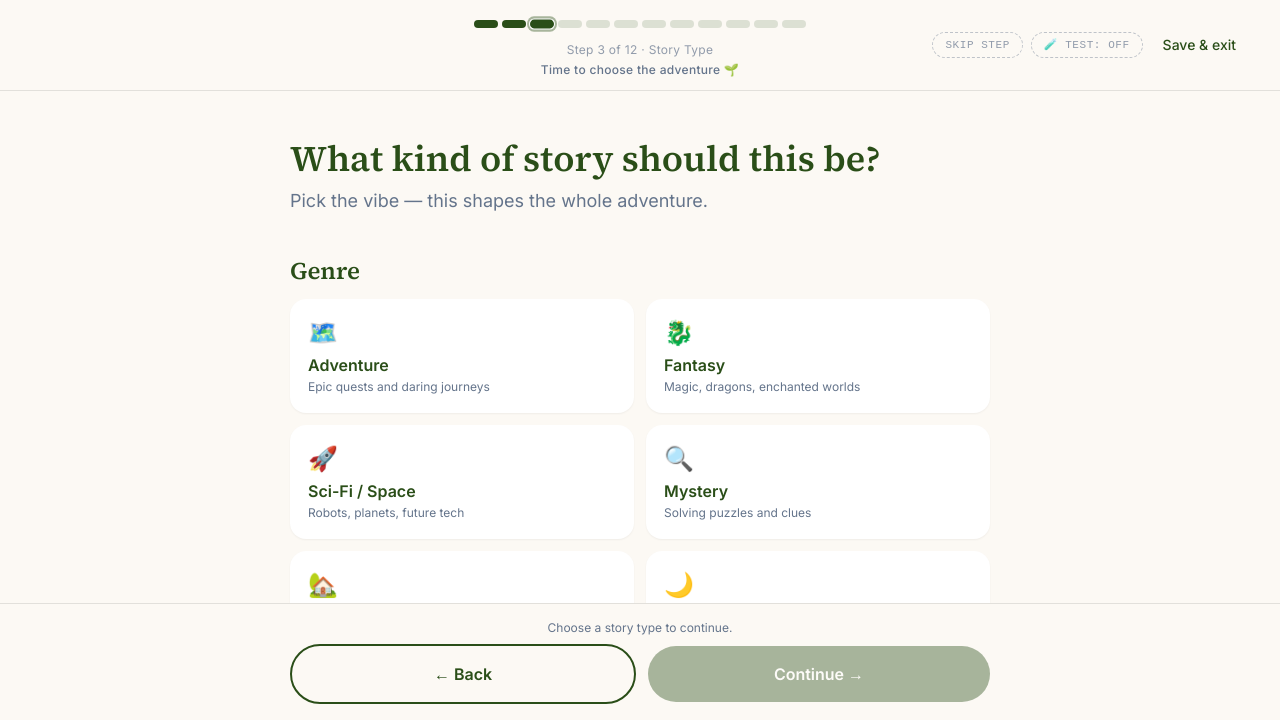
Test: Step3Genre — canContinue gating › enables Continue once both genre and mood are selected
What coordinates should you click on to do the following:
click the button "🔍 Mystery Solving puzzles and clues"
I would click on:
 (696, 491)
Its box is top-left (646, 425), bottom-right (990, 539).
(page scrolled)
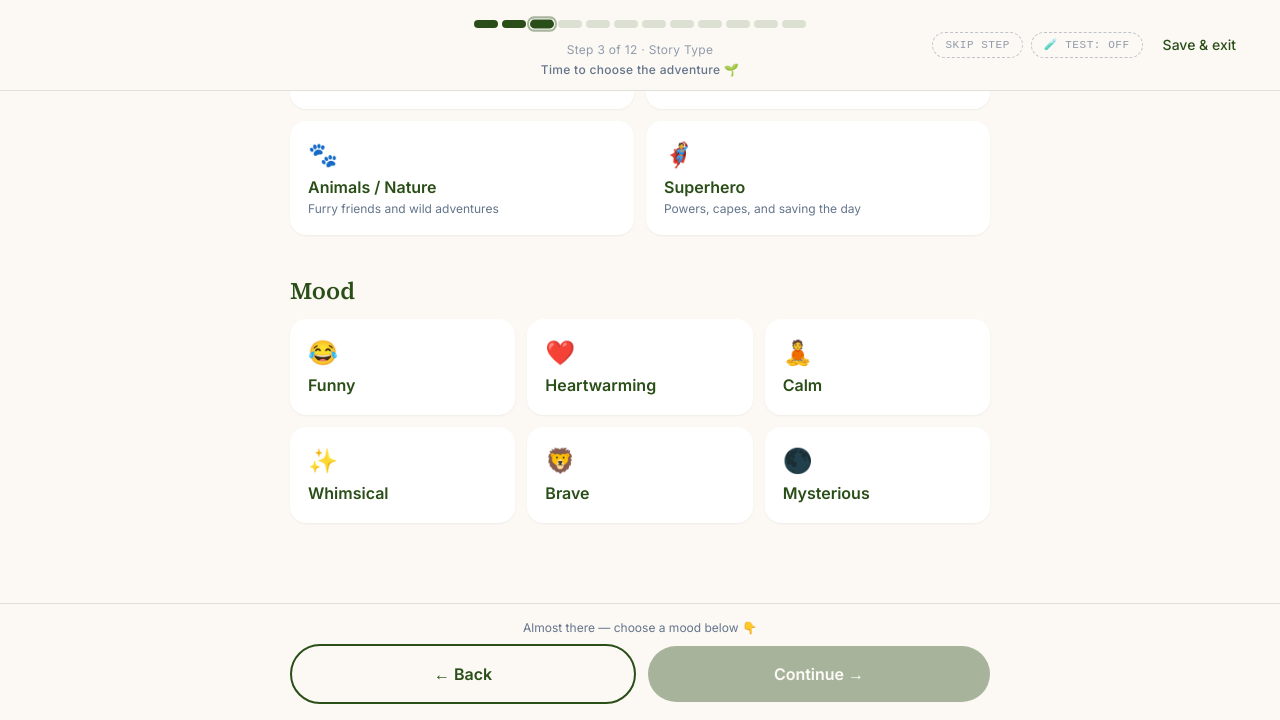
What coordinates should you click on to do the following:
click the button "🧘 Calm"
I would click on:
 (877, 367)
Its box is top-left (765, 319), bottom-right (990, 415).
(page scrolled)
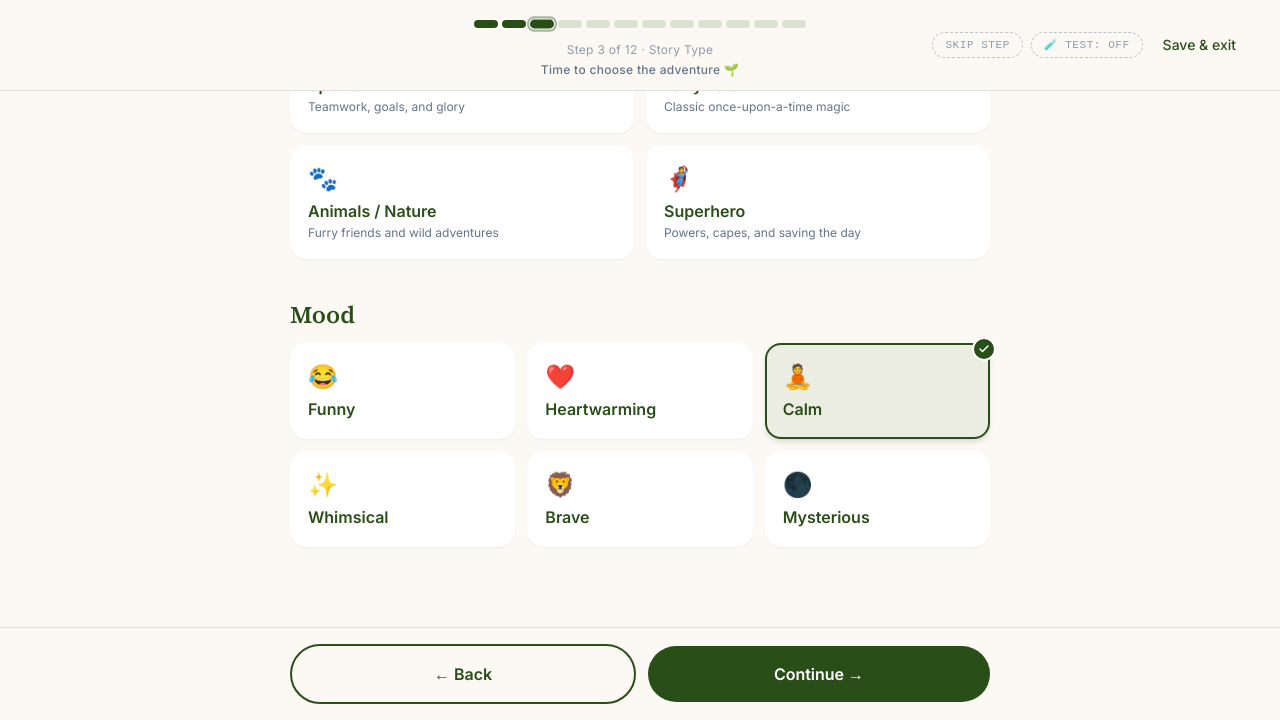
Check: the button "Continue →" is enabled, box top-left (648, 646), bottom-right (990, 702)
